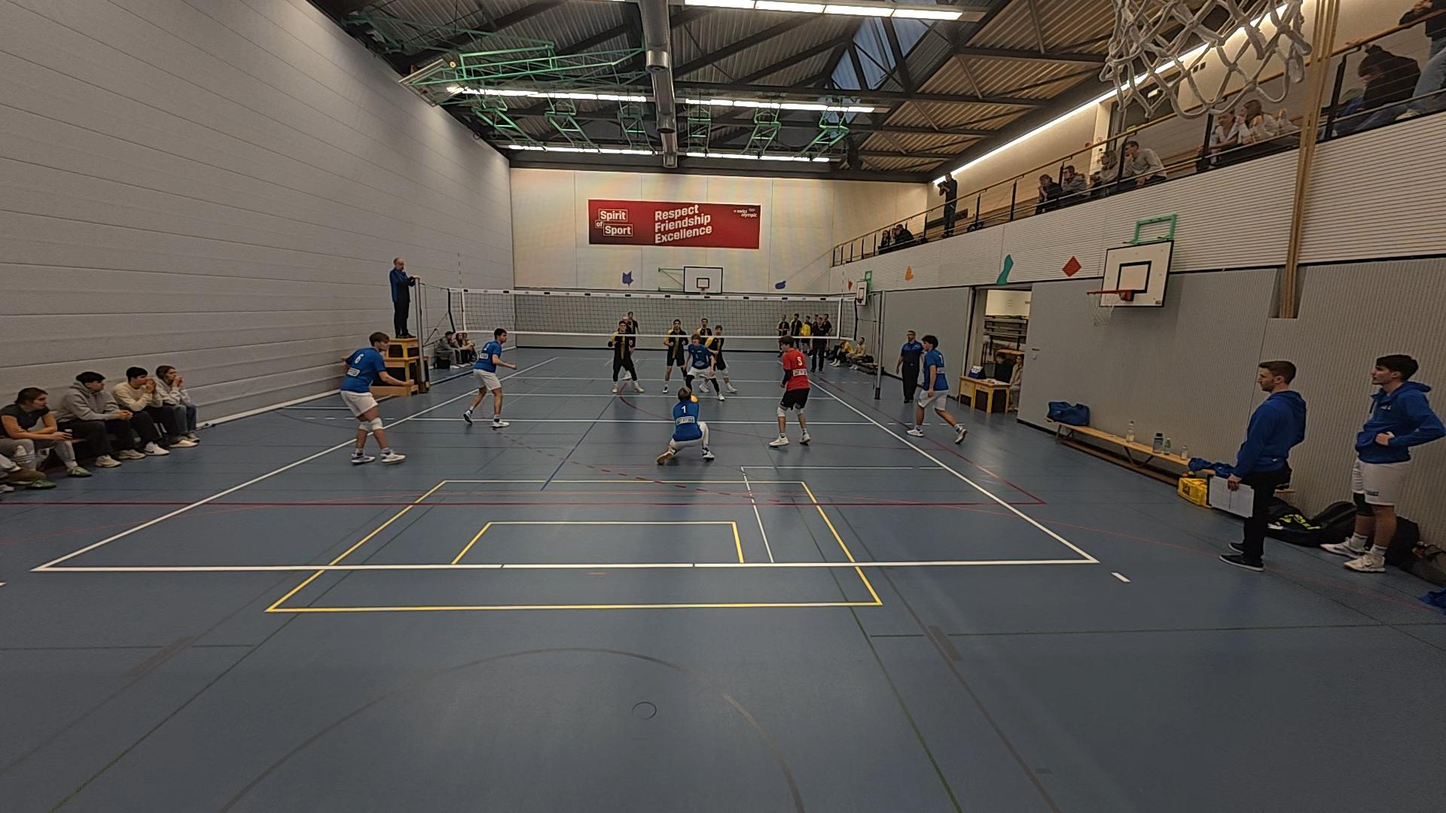Player: (343, 332, 410, 465), (910, 334, 967, 443), (770, 333, 813, 448), (462, 328, 511, 428), (679, 333, 725, 400), (702, 321, 738, 397), (607, 319, 643, 394), (660, 319, 689, 394), (615, 309, 639, 363), (693, 316, 715, 365)
Receive: (655, 382, 716, 467)
ball: (678, 386, 697, 403), (901, 265, 916, 280)
